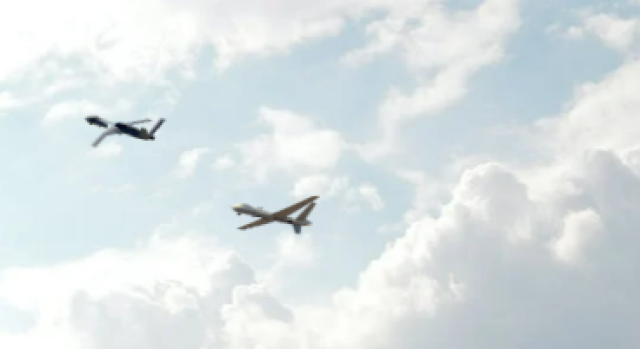military drone: (227, 195, 320, 234), (84, 113, 167, 147)
